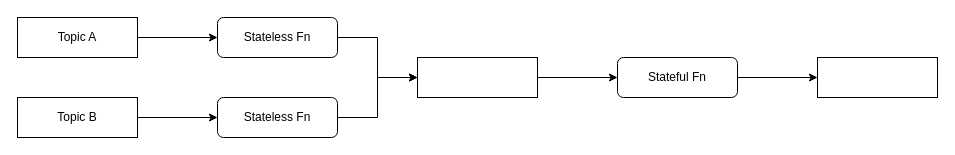
The diagram is 955 pixels wide and 155 high, and some of its shapes have lost their labels. The shapes that lost their labels are listed below. From the top down, each one's centre as x and y in pixels, then its label:
At (x=477, y=77): "Intermediate Topic".
At (x=877, y=77): "Join Result Topic".
